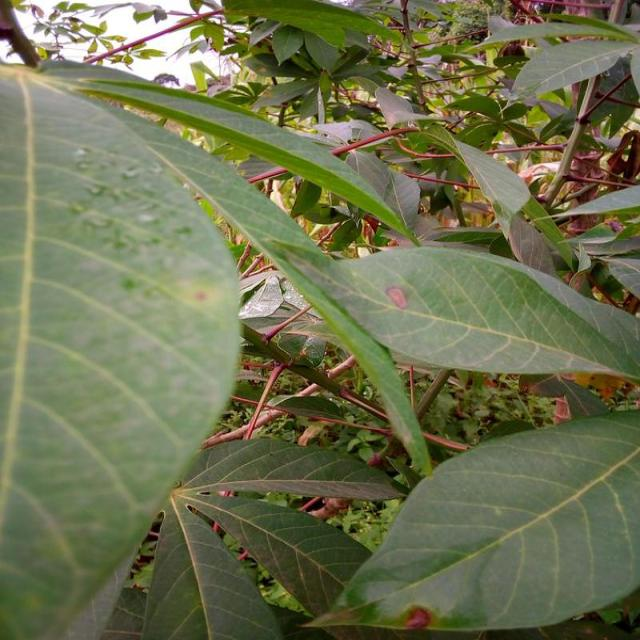cassava leaf: (0, 54, 638, 637), (0, 59, 242, 638), (301, 406, 638, 636)
